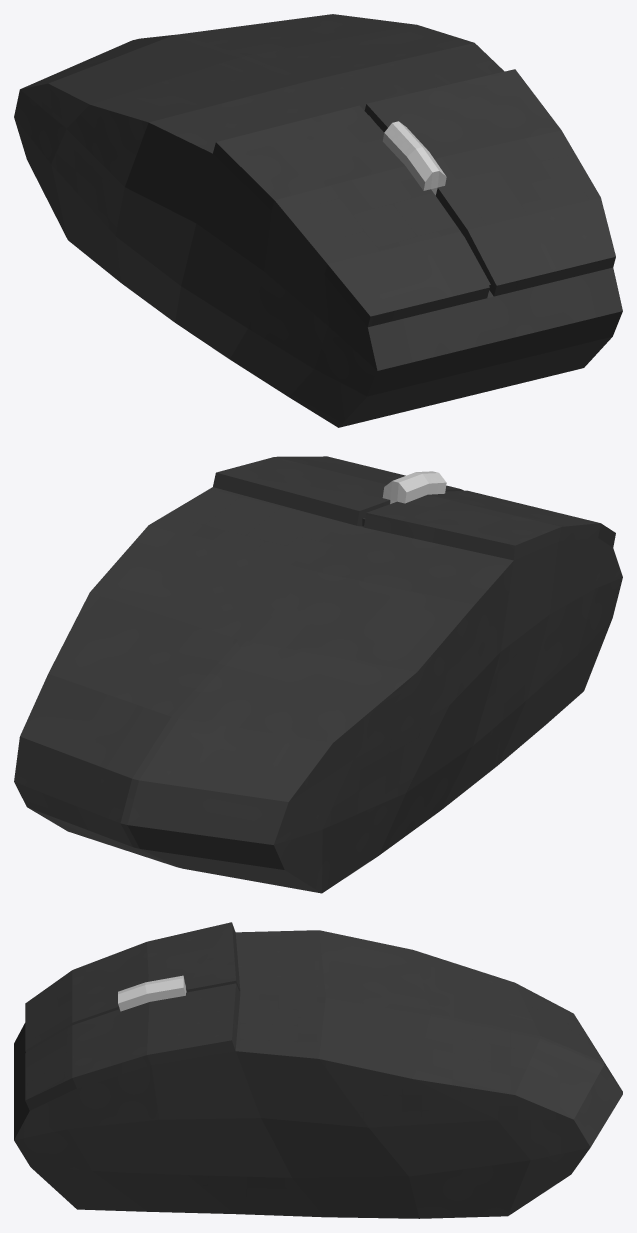
The model's file is Mouse.fbx.
3 views of the same model, one above another, from view 1: azimuth 30°, elevation 25°; view 2: azimuth 150°, elevation 25°; view 3: azimuth 270°, elevation 25° (orthographic). The views are drawn at different scales.
Visible parts, largest first — view 1: Mouse; view 2: Mouse; view 3: Mouse.
Boxes of the visible parts, box(x1,y1,x2,y2) form: Mouse: box(14, 14, 622, 427); Mouse: box(14, 456, 622, 893); Mouse: box(14, 922, 622, 1218).
Size of the model in its own units: 0.0715 by 0.0493 by 0.1424.
